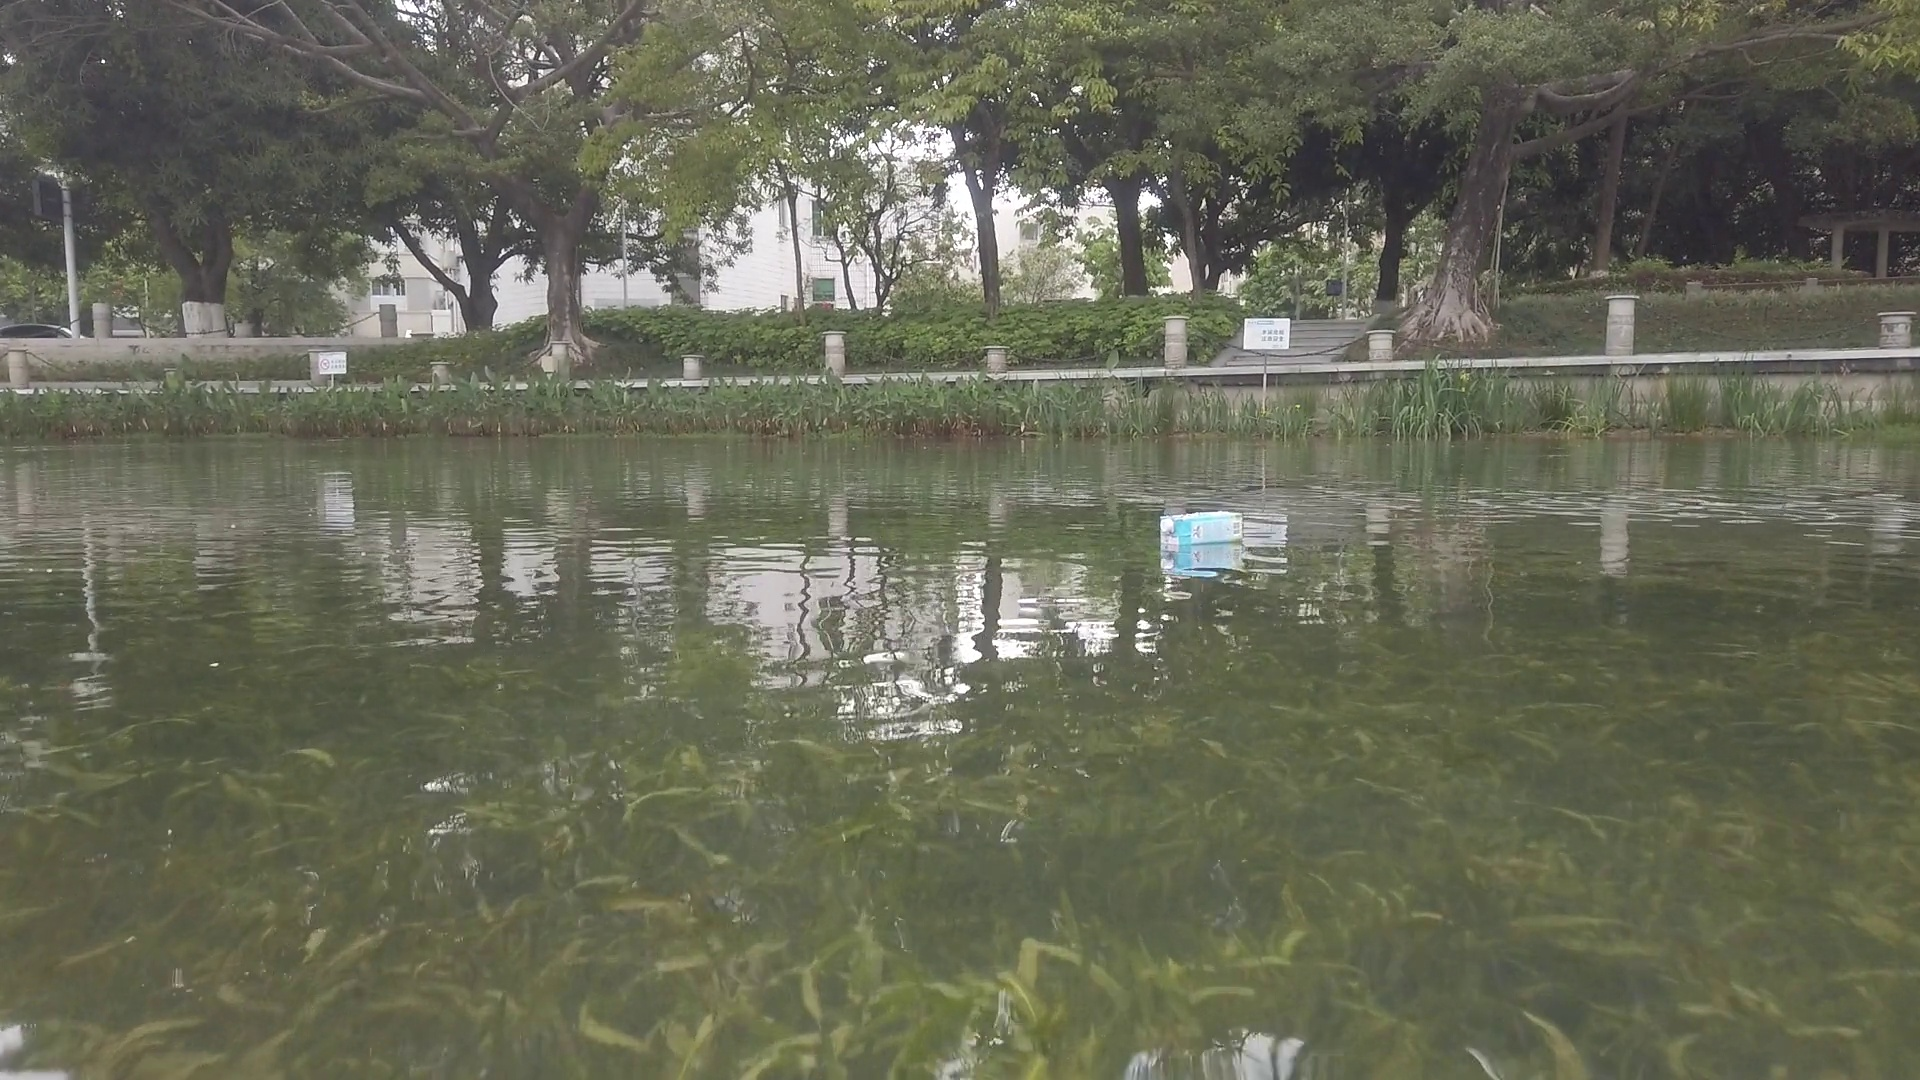carton: (1160, 510, 1244, 542)
